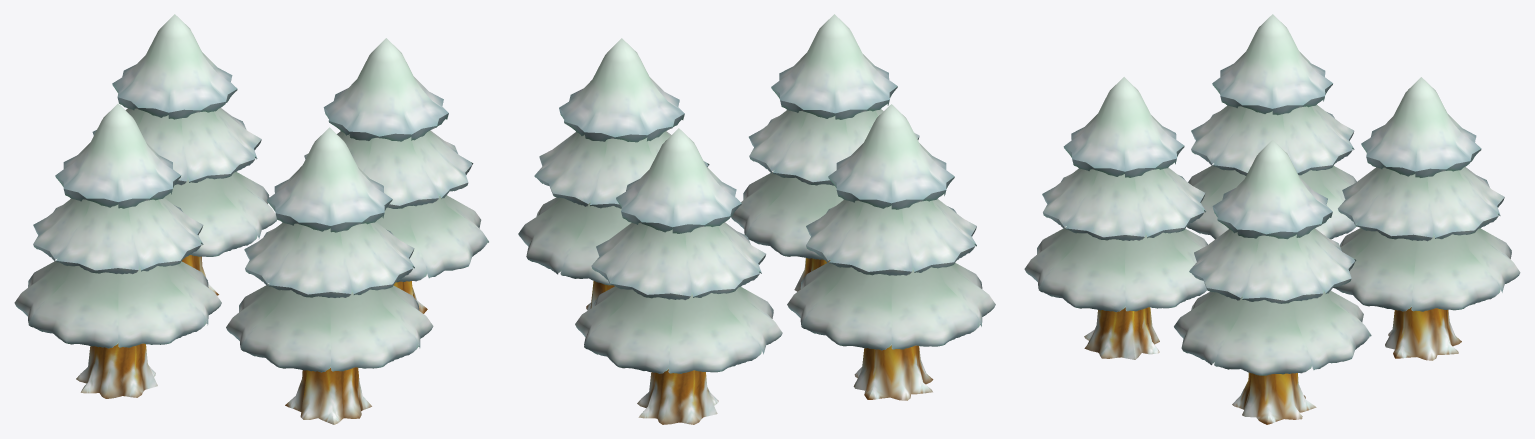
Rendered from Tree 6 - snow.fbx.
The picture shows the model from 3 angles, left to right: view 1: azimuth 30°, elevation 25°; view 2: azimuth 150°, elevation 25°; view 3: azimuth 270°, elevation 25°; orthographic projection. The views are drawn at different scales.
Parts seen in each view (by area): view 1: tree6_snow; view 2: tree6_snow; view 3: tree6_snow.
Boxes of the visible parts, left/top/right/bottom form: tree6_snow: left=14, top=14, right=488, bottom=424; tree6_snow: left=518, top=14, right=995, bottom=424; tree6_snow: left=1024, top=14, right=1520, bottom=424.
Bounding box in the file's own units: 3.34 × 1.99 × 3.34.
